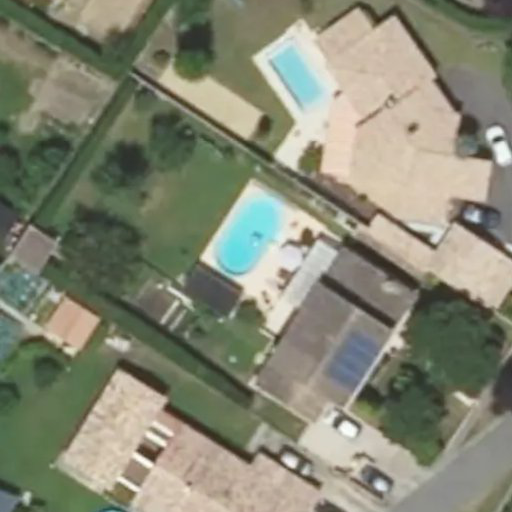pool: (214, 196, 280, 274), (266, 42, 324, 113)
